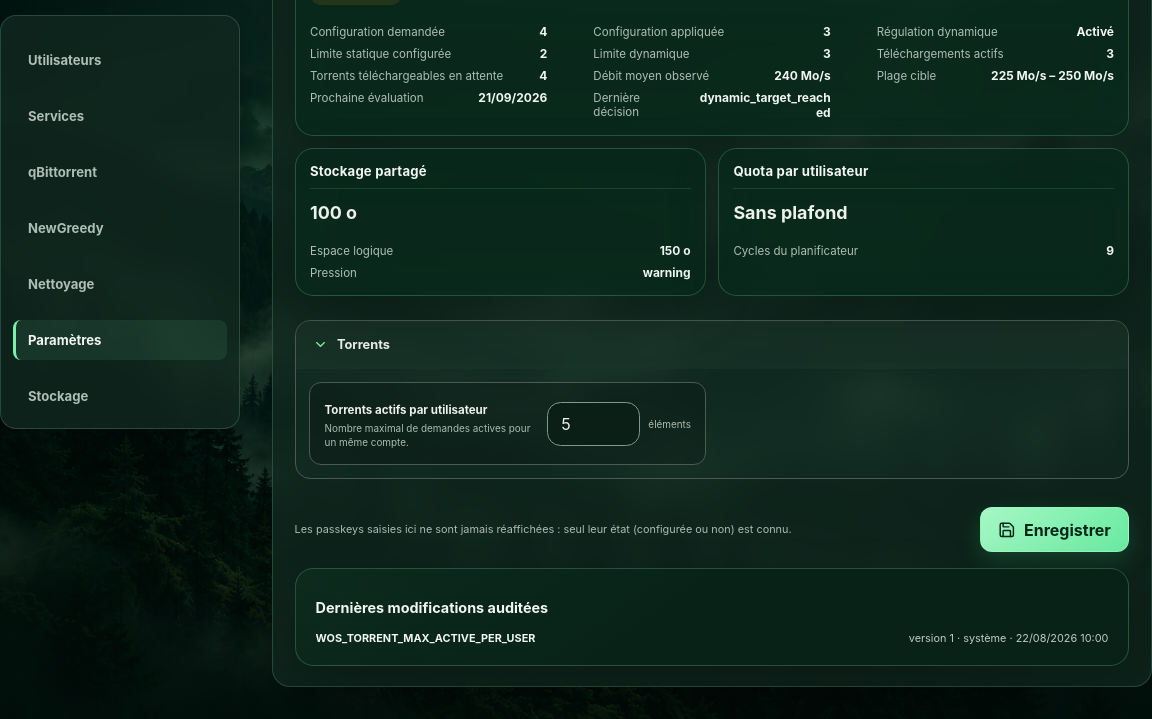
AdminSettingsPage › envoie la version vue de chaque option et recharge après un conflit
(page scrolled)
Replace the text in the number field labelled "Torrents actifs par utilisateur" with "7" at (593, 424), box [547,402,640,446]
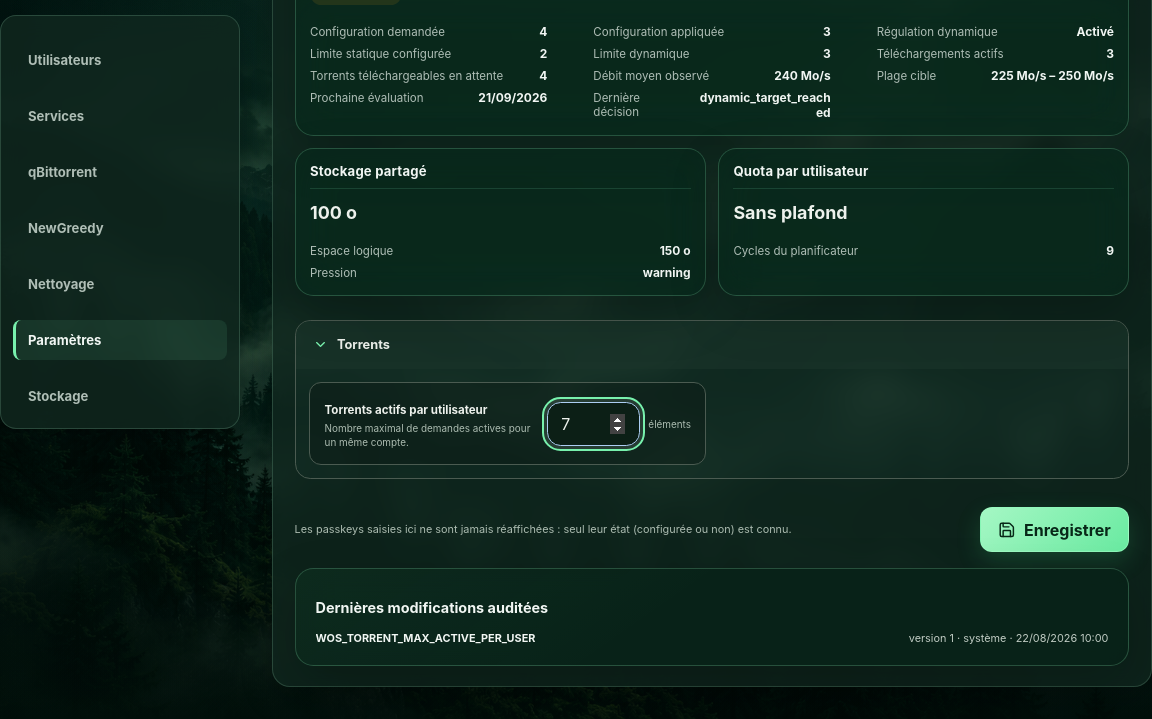
Click the button "Enregistrer" at (1055, 530), box [980,507,1129,552]
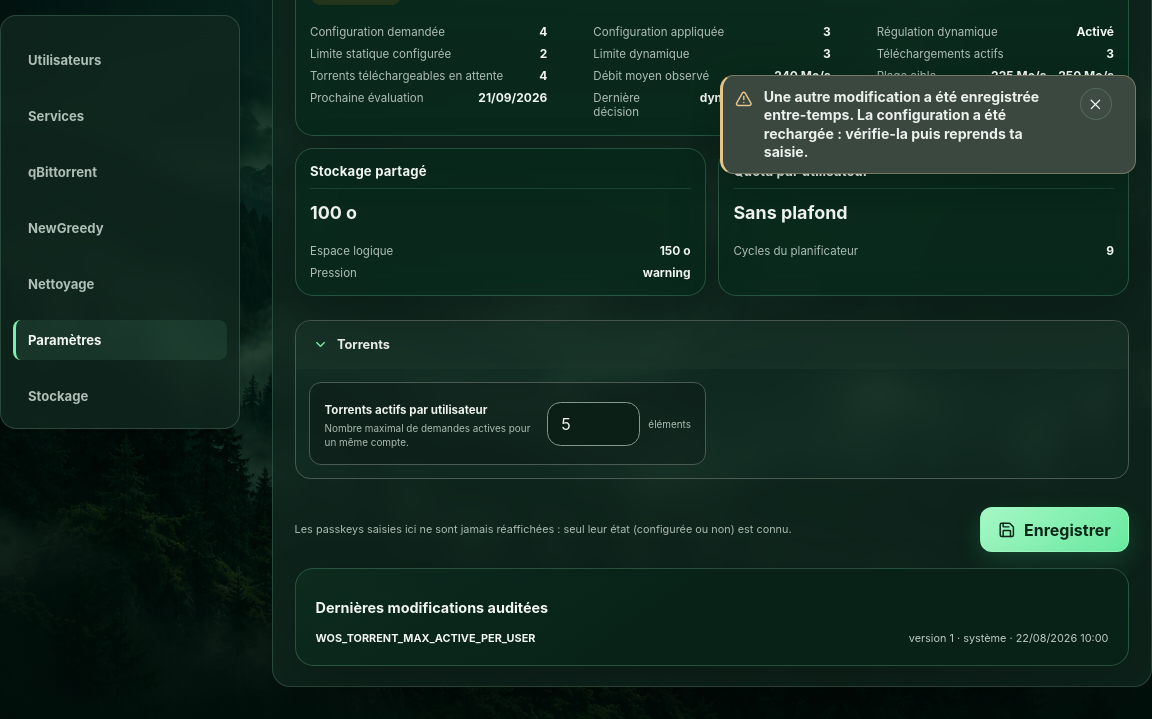
Result: the text "Une autre modification a été enregistrée entre-temps" is shown at [764,88,1039,160]
